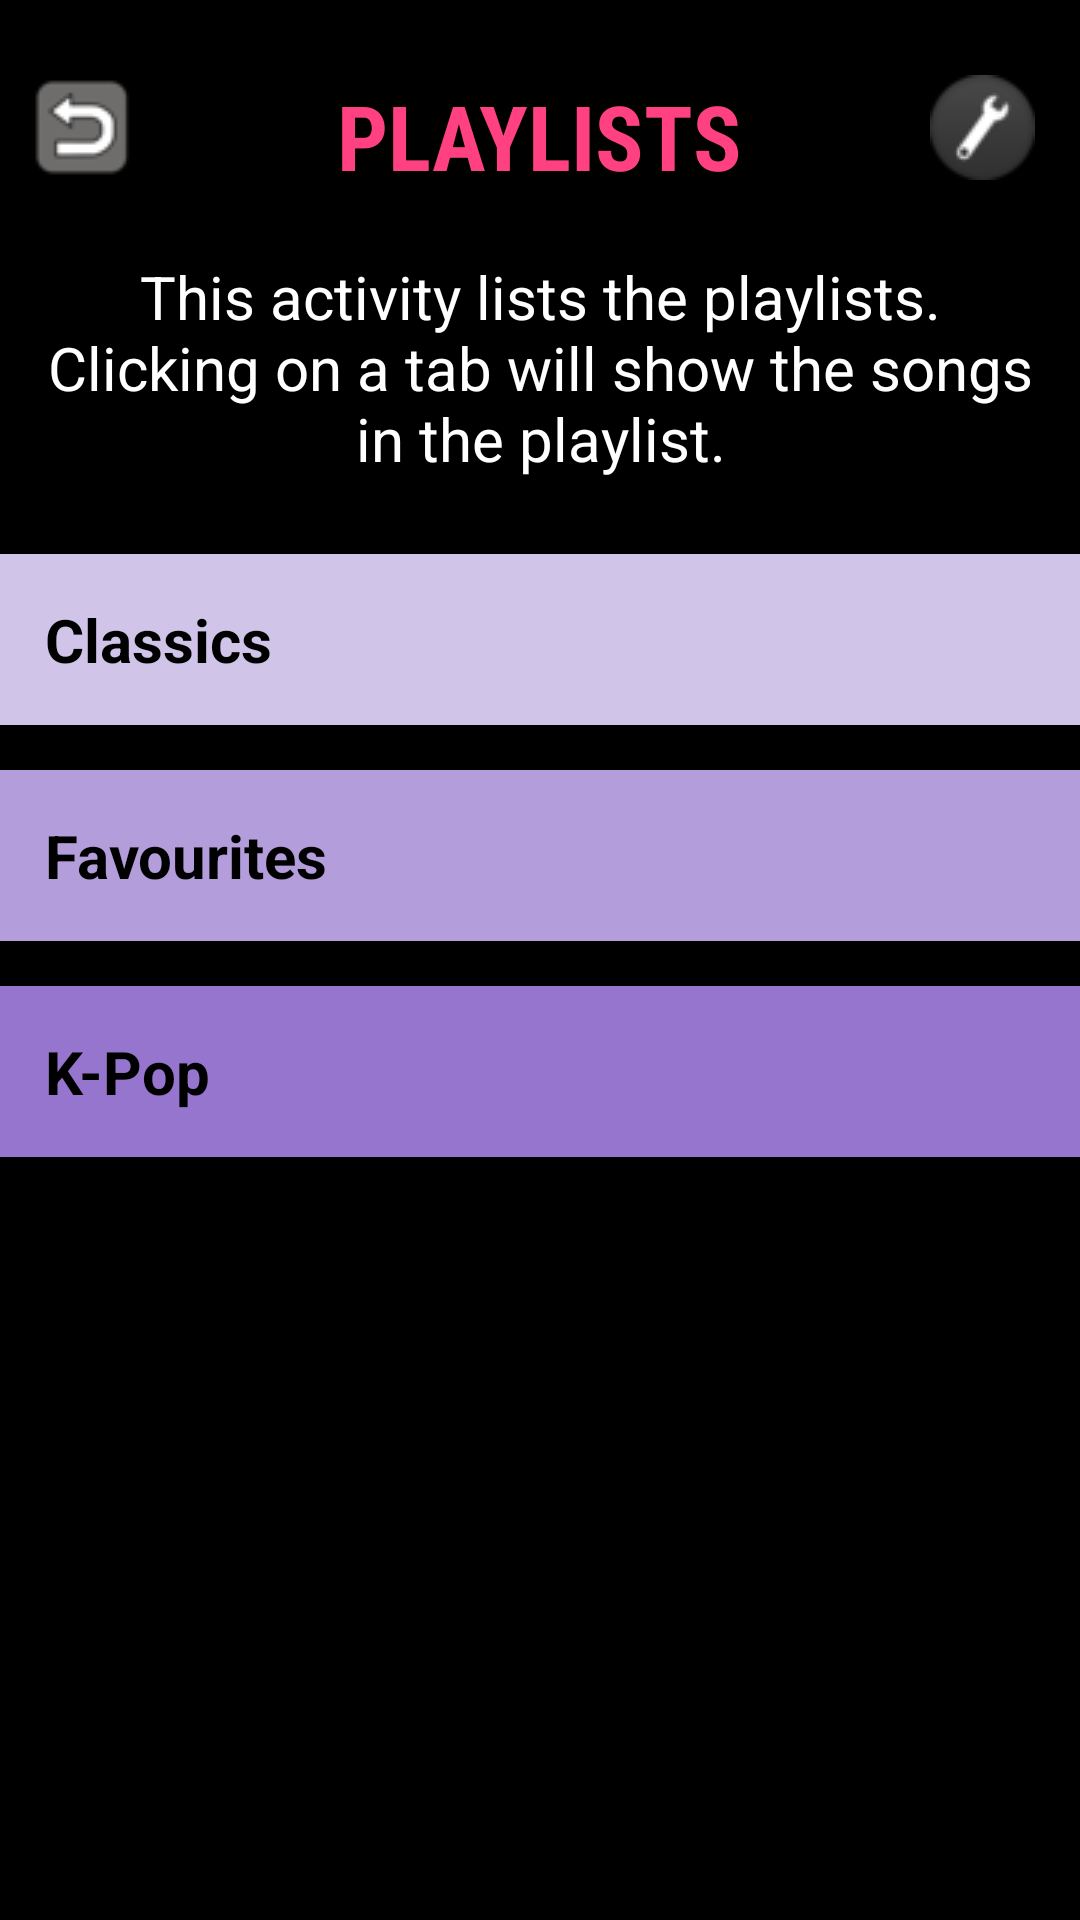

Named icons in this screenshot (1080px x 1920px) and their bounding boxes, (x1, y1, x2, y2):
Back Button: (36, 81, 127, 174)
Settings: (930, 75, 1035, 180)
